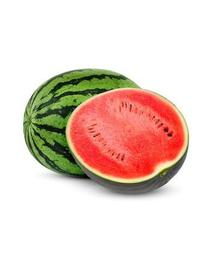watermelon: (24, 69, 150, 177), (67, 88, 187, 191)
